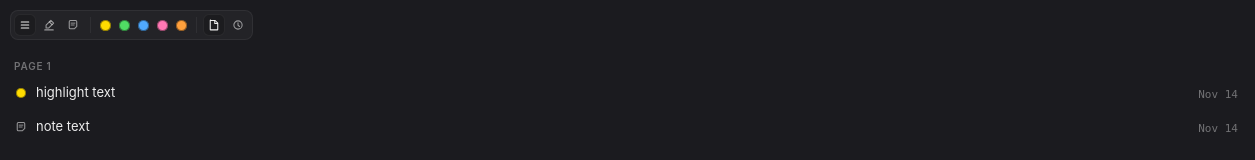
Test: MarksTabContent › filters to notes only when note button is pressed
Click the button named "Notes": (73, 25) [62,14,84,36]
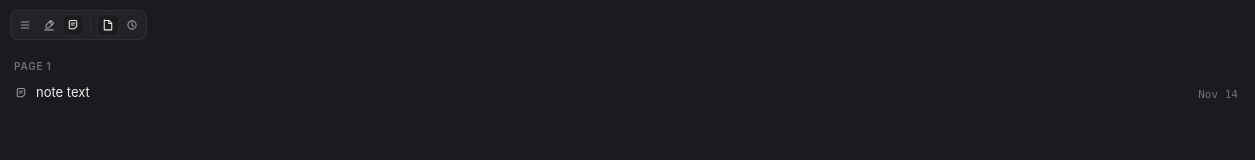
Check: the text "note text" is shown, box [36,84,90,100]
Check: the button "highlight text" is gone
